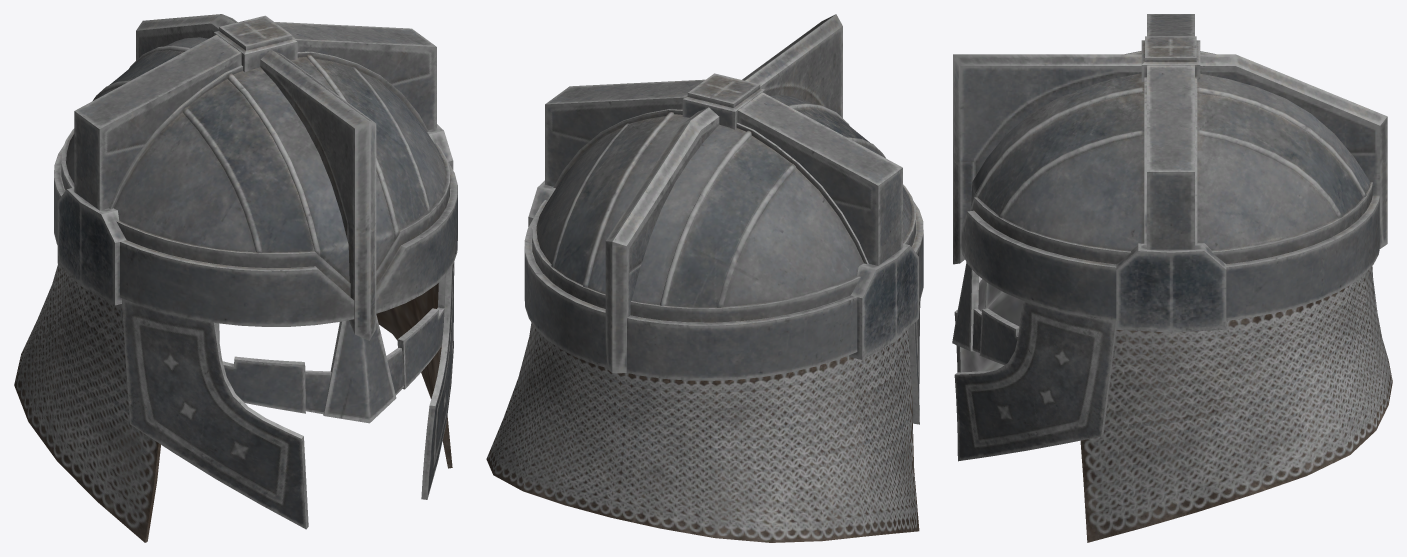
File: sk_dwarf_erebor_helmet_plate_med_a.fbx
3 renders of one model, left to right at view 1: azimuth 30°, elevation 25°; view 2: azimuth 150°, elevation 25°; view 3: azimuth 270°, elevation 25°, orthographic. The views are drawn at different scales.
Parts seen in each view (by area): view 1: sk_dwarf_erebor_helmet_plate_med_a.1, sk_dwarf_erebor_helmet_plate_med_a.0; view 2: sk_dwarf_erebor_helmet_plate_med_a.1, sk_dwarf_erebor_helmet_plate_med_a.0; view 3: sk_dwarf_erebor_helmet_plate_med_a.1, sk_dwarf_erebor_helmet_plate_med_a.0.
Boxes of the visible parts, x1=… form: sk_dwarf_erebor_helmet_plate_med_a.1: x1=54, y1=14, x2=457, y2=423; sk_dwarf_erebor_helmet_plate_med_a.0: x1=14, y1=262, x2=454, y2=542; sk_dwarf_erebor_helmet_plate_med_a.1: x1=524, y1=14, x2=923, y2=380; sk_dwarf_erebor_helmet_plate_med_a.0: x1=486, y1=299, x2=920, y2=542; sk_dwarf_erebor_helmet_plate_med_a.1: x1=952, y1=14, x2=1387, y2=364; sk_dwarf_erebor_helmet_plate_med_a.0: x1=954, y1=266, x2=1392, y2=542.
Bounding box in the file's own units: 0.2777 × 0.3 × 0.319.
